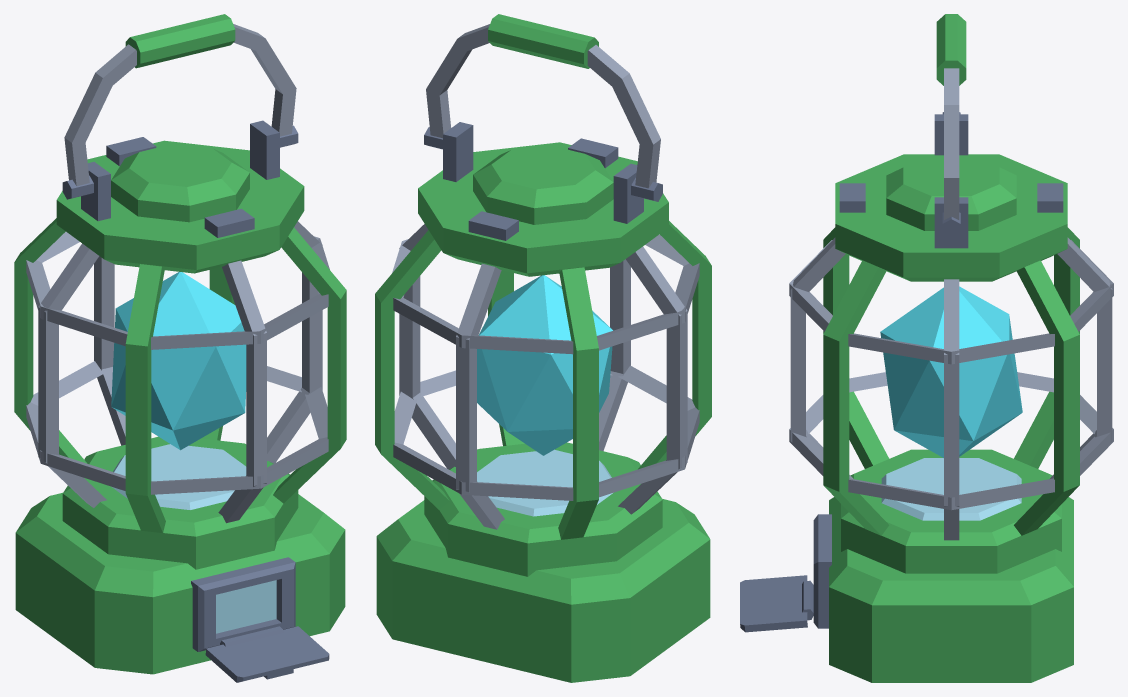
The model's file is spirit-lantern-8d1bfc.glb.
3 renders of one model, left to right at view 1: azimuth 30°, elevation 25°; view 2: azimuth 150°, elevation 25°; view 3: azimuth 270°, elevation 25°, orthographic.
Visible parts, largest first — view 1: lantern-matte, lantern-metal, core-crystal, lantern-crystal, handle-metal, shutter-metal, handle-matte; view 2: lantern-matte, lantern-metal, core-crystal, handle-metal, lantern-crystal, handle-matte; view 3: lantern-matte, lantern-metal, core-crystal, lantern-crystal, shutter-metal, handle-metal, handle-matte.
Part boxes in pixels (<box>): lantern-matte: <box>14,140,346,674</box>; lantern-metal: <box>26,120,329,651</box>; core-crystal: <box>111,272,246,450</box>; lantern-crystal: <box>111,444,276,633</box>; handle-metal: <box>62,24,298,199</box>; shutter-metal: <box>205,626,329,682</box>; handle-matte: <box>125,14,235,68</box>; lantern-matte: <box>375,142,711,682</box>; lantern-metal: <box>392,122,699,529</box>; core-crystal: <box>477,275,612,455</box>; handle-metal: <box>424,24,662,201</box>; lantern-crystal: <box>477,449,612,516</box>; handle-matte: <box>488,14,598,68</box>; lantern-matte: <box>823,154,1079,682</box>; lantern-metal: <box>789,114,1113,628</box>; core-crystal: <box>880,286,1022,457</box>; lantern-crystal: <box>881,458,1021,520</box>; shutter-metal: <box>740,575,813,632</box>; handle-metal: <box>942,68,960,237</box>; handle-matte: <box>936,14,966,85</box>.
Size of the model in its own units: 0.2119 by 0.4207 by 0.244.
